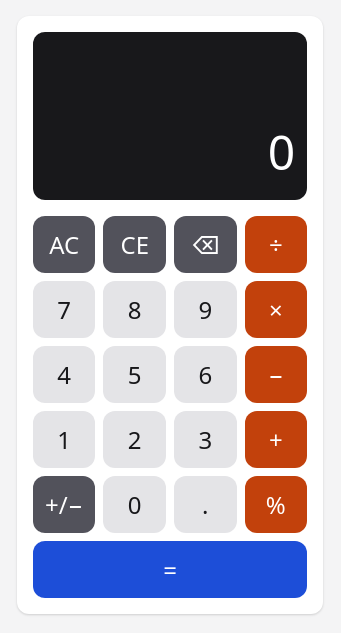
Test: percentage (User Story 4) › computes 50% = 0.5 with no pending operator
Click the button "5".
click(135, 374)  # box [104,346,166,403]
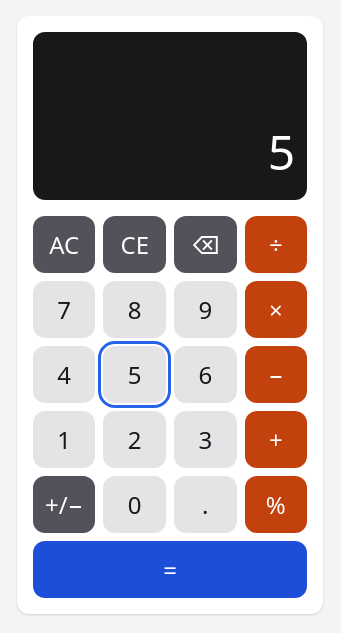
Click the button "0".
click(135, 504)  # box [104,476,166,533]
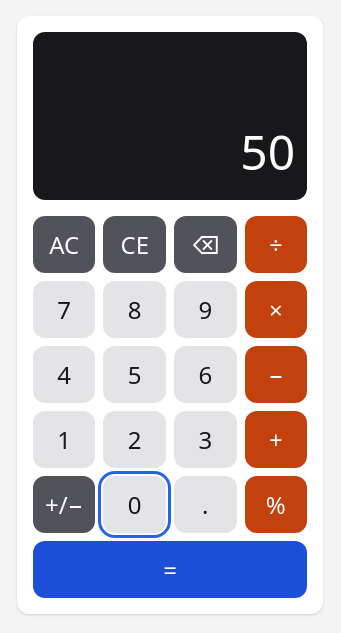
Click the button named "Percent".
click(276, 504)  # box [244,476,307,533]
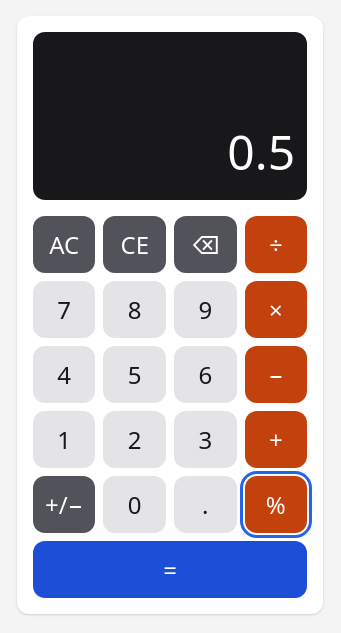
Now the message reads "0.5", box [227,119,295,184]
